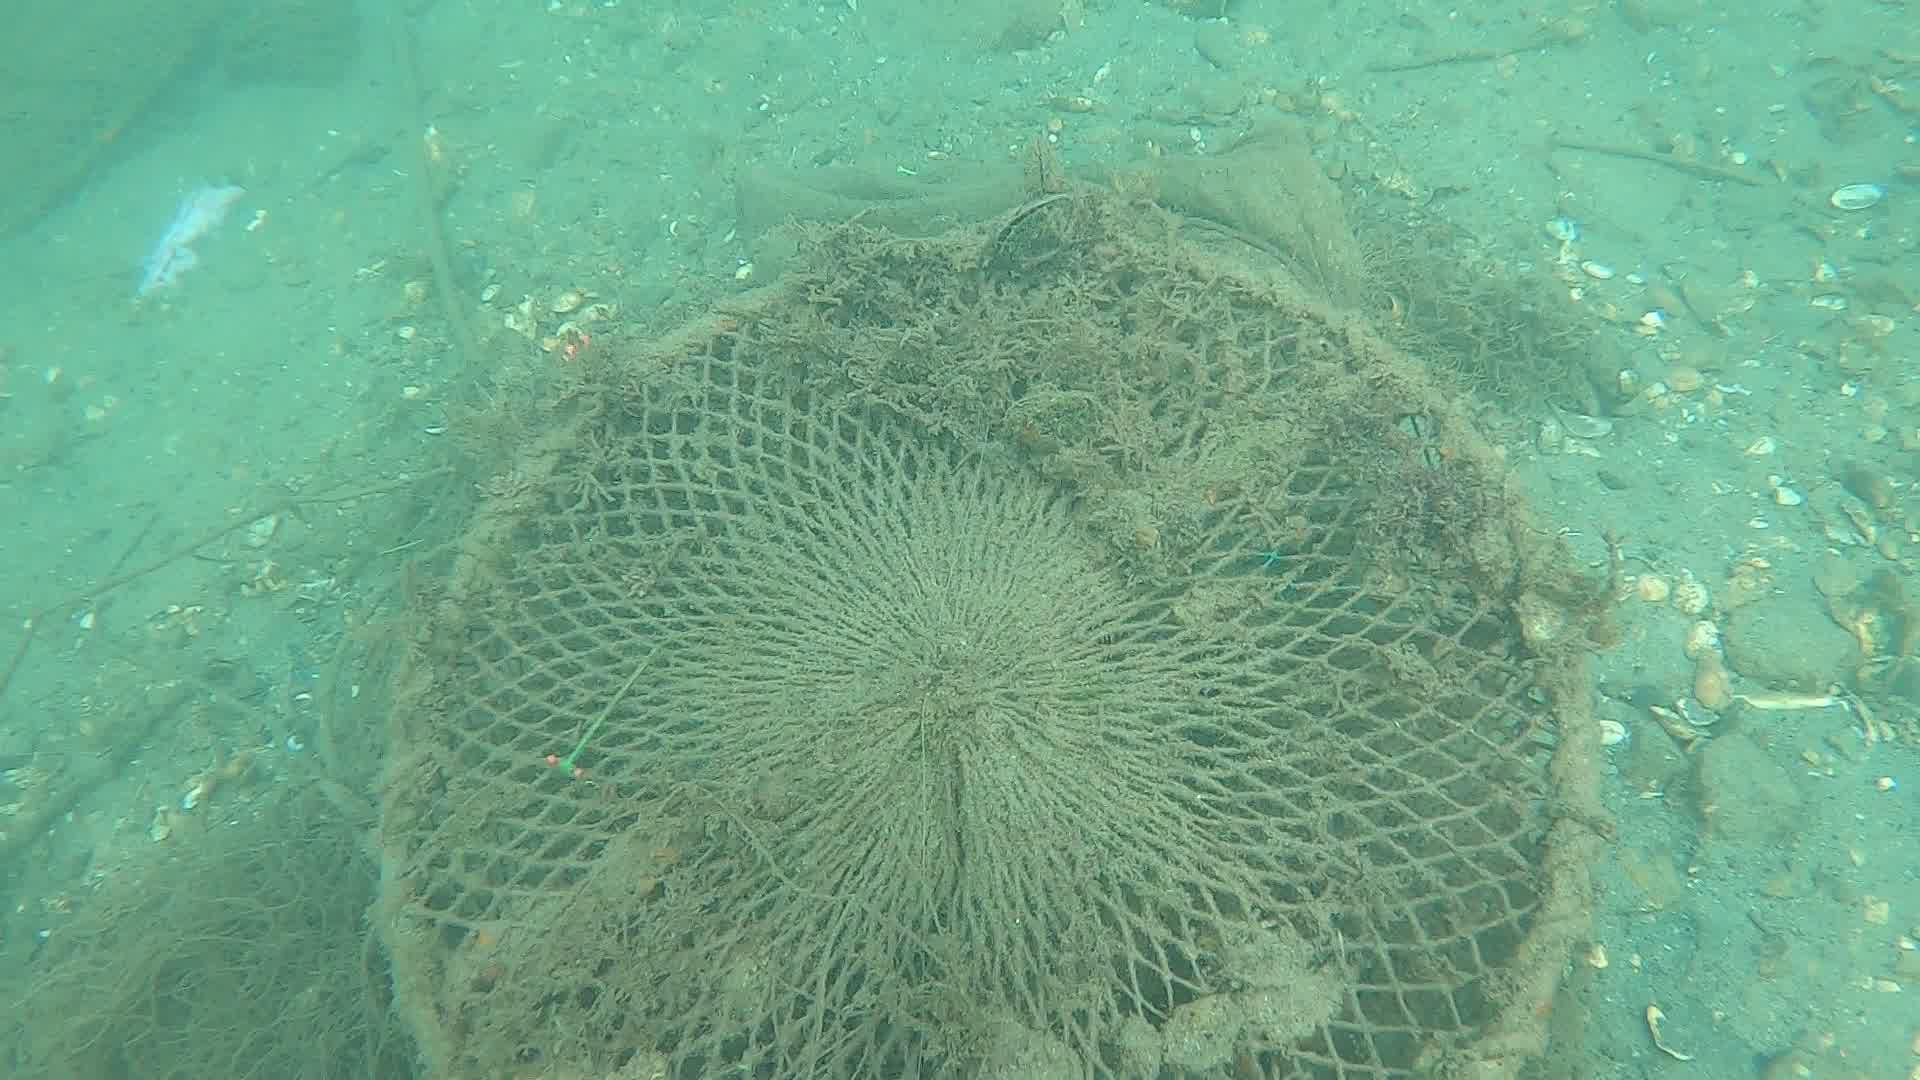circular fish trap: (355, 220, 1607, 1080)
